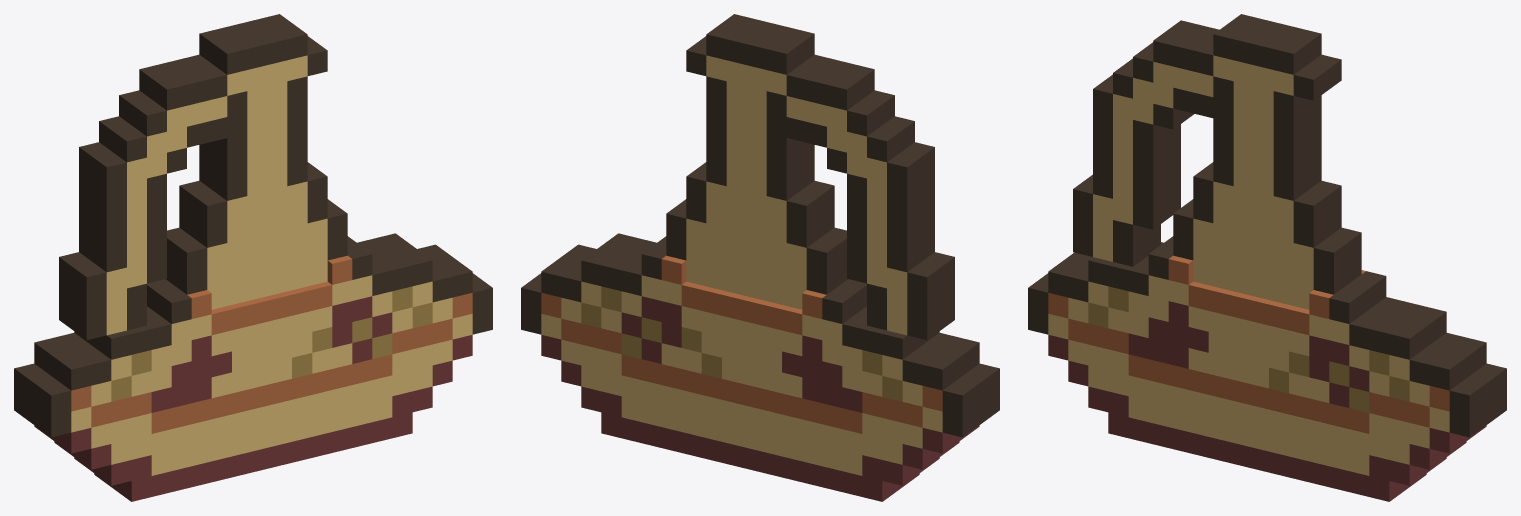
File: TerracottaLagynos.fbx
The picture shows the model from 3 angles, left to right: view 1: azimuth 30°, elevation 25°; view 2: azimuth 150°, elevation 25°; view 3: azimuth 330°, elevation 25°; orthographic projection.
Visible parts, largest first — view 1: generated; view 2: generated; view 3: generated.
Part boxes in pixels (bbox=[...]): generated: bbox=[14, 14, 492, 501]; generated: bbox=[521, 14, 999, 501]; generated: bbox=[1028, 14, 1506, 501].
Size of the model in its own units: 22 by 20 by 3.2.
